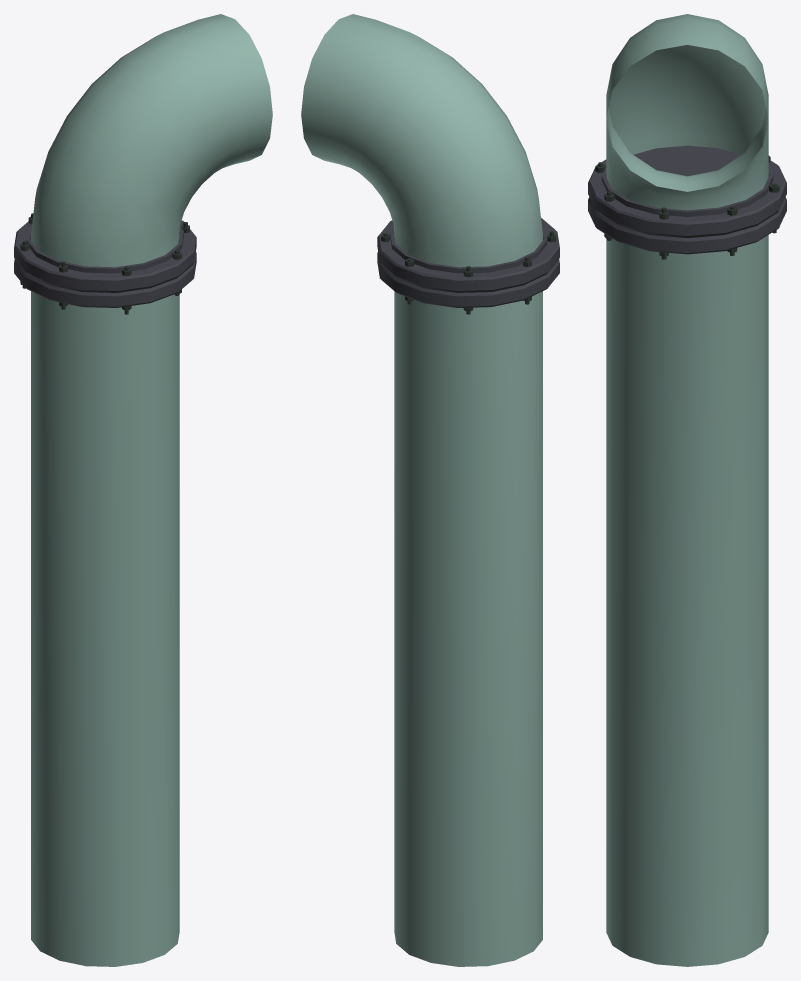
Rendered from PipeComplexLarge_A2_16.fbx.
3 views of the same model, side by side, from view 1: azimuth 30°, elevation 25°; view 2: azimuth 150°, elevation 25°; view 3: azimuth 270°, elevation 25° (orthographic). The views are drawn at different scales.
Parts seen in each view (by area): view 1: PipeComplexLarge_A2_16.001; view 2: PipeComplexLarge_A2_16.001; view 3: PipeComplexLarge_A2_16.001.
Boxes of the visible parts, x1,y1,x2,y2 form: PipeComplexLarge_A2_16.001: (14,14,272,966); PipeComplexLarge_A2_16.001: (301,14,559,966); PipeComplexLarge_A2_16.001: (588,14,786,966).
Size of the model in its own units: 0.3225 by 1.3 by 0.245.
